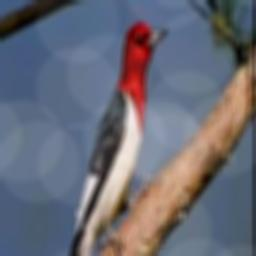Woodpecker: (62, 20, 167, 256)
